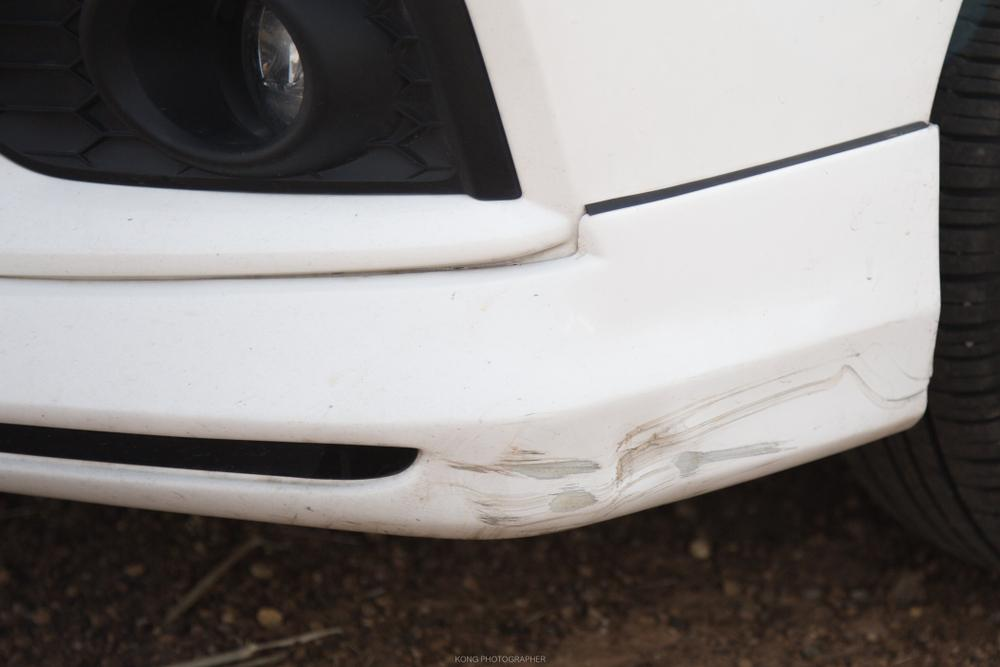scratch: (450, 349, 925, 526)
